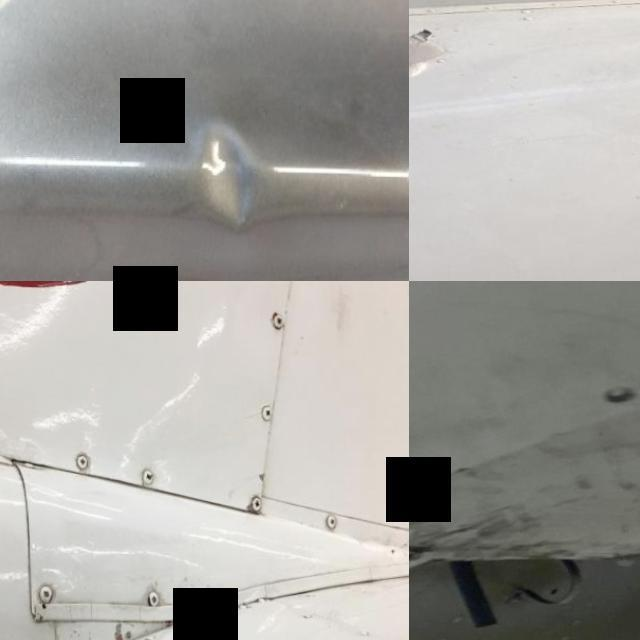Crack: (46, 572, 249, 640), (300, 281, 409, 360)
Dent: (189, 117, 259, 223)
Missing_Fastener: (598, 382, 636, 408), (409, 453, 440, 478), (409, 549, 421, 569)
